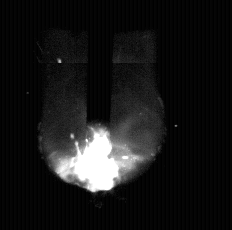arame: (88, 0, 111, 129)
poca: (38, 0, 164, 230)
